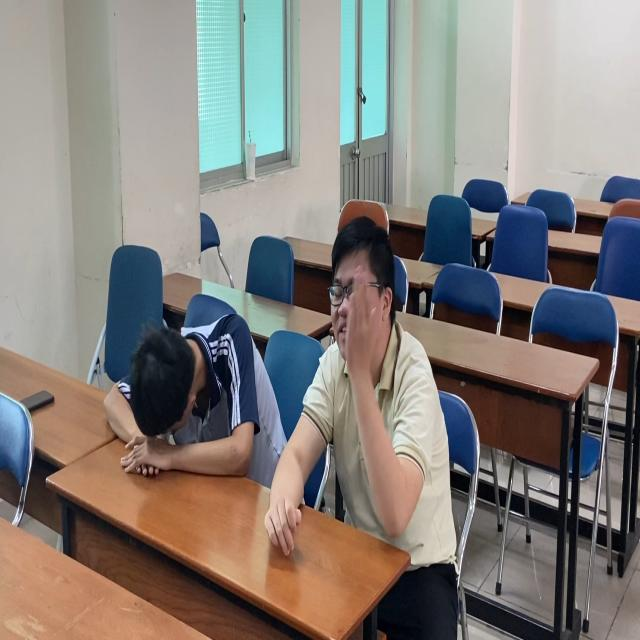raise_hand: (306, 216, 430, 542)
sleep: (84, 311, 271, 478)
